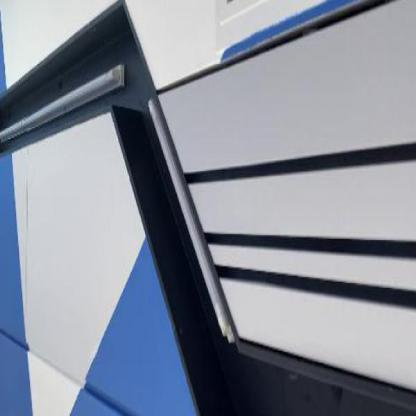light_off: (146, 43, 244, 364), (0, 38, 129, 162)
